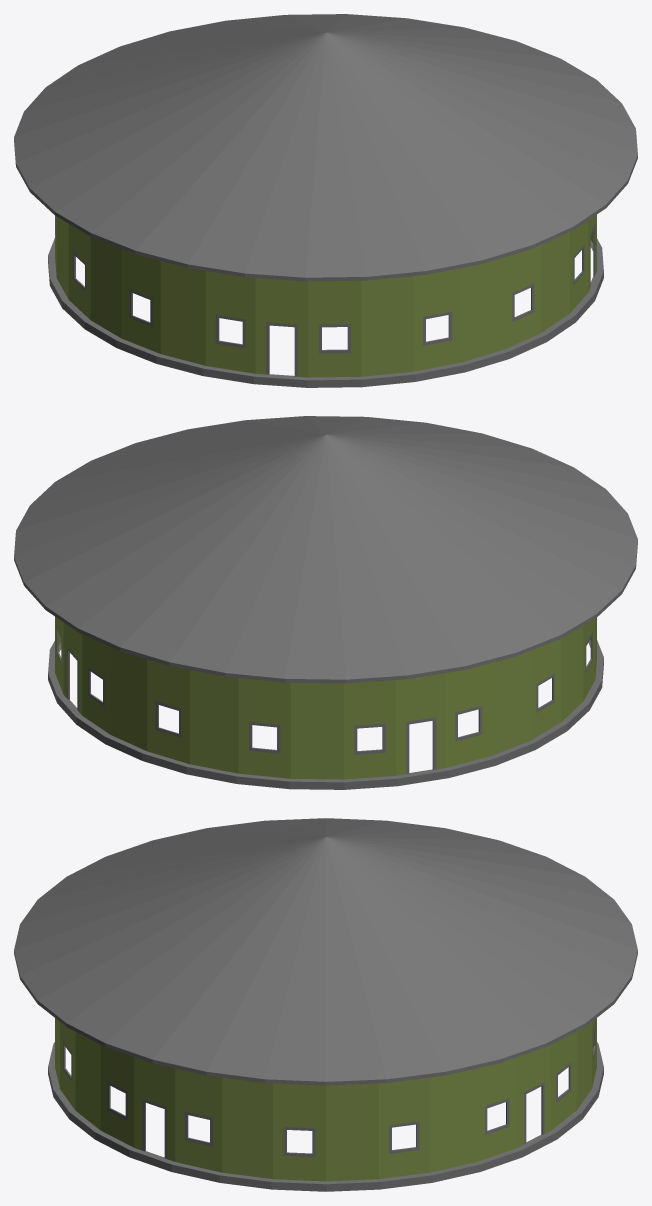
File: ArenaBuilding #2.fbx
The picture shows the model from 3 angles, top to bottom: view 1: azimuth 30°, elevation 25°; view 2: azimuth 150°, elevation 25°; view 3: azimuth 270°, elevation 25°; orthographic projection.
Parts seen in each view (by area): view 1: building_002; view 2: building_002; view 3: building_002.
Part boxes in pixels (x1,y1,x2,y2): building_002: (14,14,637,387); building_002: (14,416,637,789); building_002: (14,818,637,1191).
Size of the model in its own units: 1954 by 820 by 1954.
